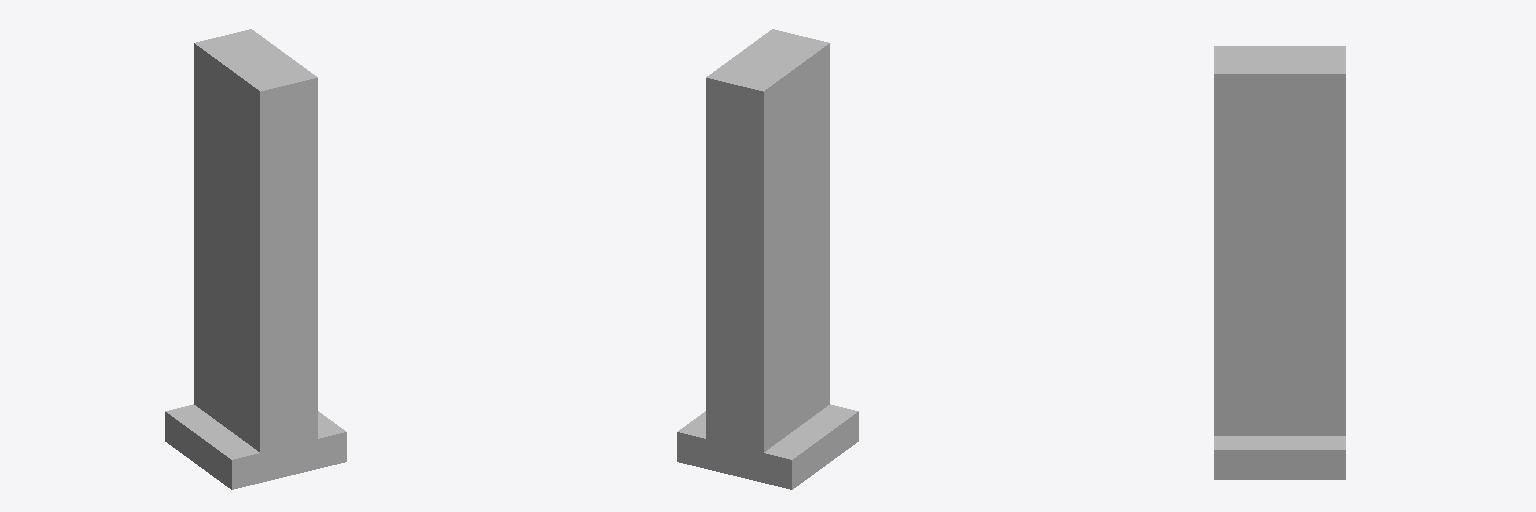
The model's file is Package 01 Necro Dungeon-45.obj.
The picture shows the model from 3 angles: view 1: azimuth 30°, elevation 25°; view 2: azimuth 150°, elevation 25°; view 3: azimuth 270°, elevation 25°; orthographic projection.
Parts seen in each view (by area): view 1: object 1; view 2: object 1; view 3: object 1.
Boxes of the visible parts, box(x1,y1,x2,y2) form: object 1: box(165, 29, 346, 489); object 1: box(677, 29, 858, 489); object 1: box(1214, 46, 1345, 479).
Size of the model in its own units: 0.4 by 1.3 by 0.4.